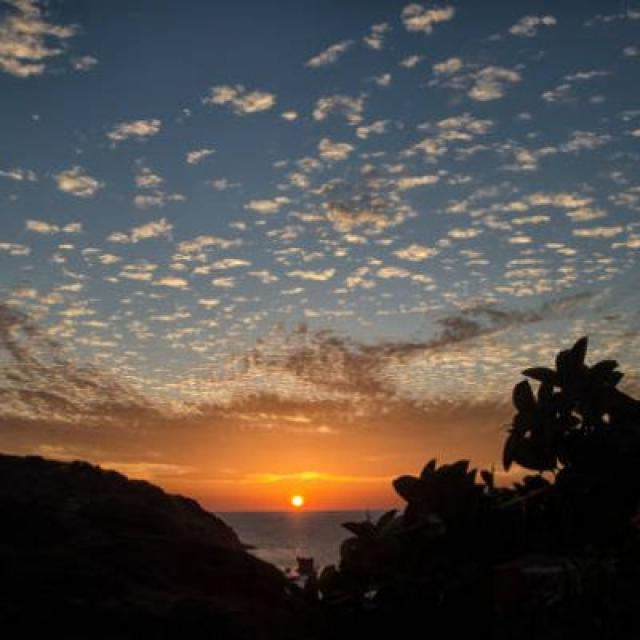Cc: (1, 13, 640, 337)
